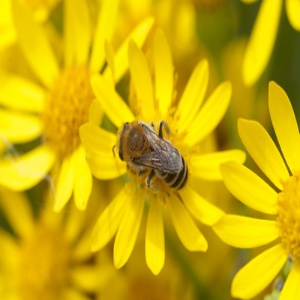bee: (113, 118, 195, 202)
